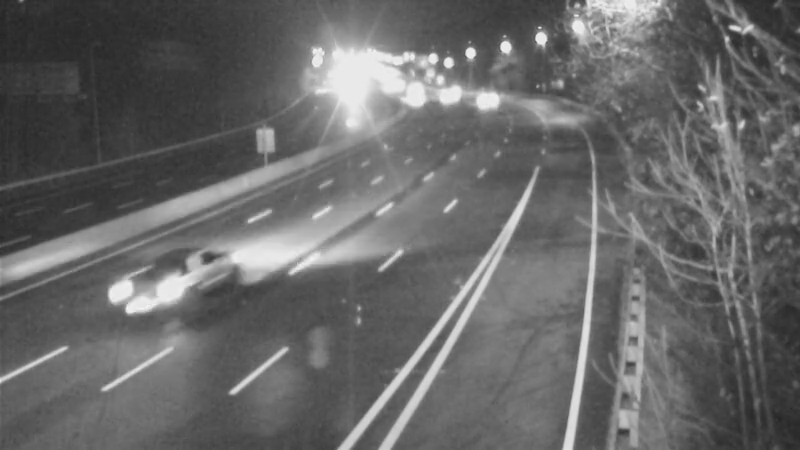vehicle: (112, 251, 192, 331), (391, 63, 441, 113), (419, 72, 469, 122), (388, 75, 438, 125), (462, 75, 512, 125)
